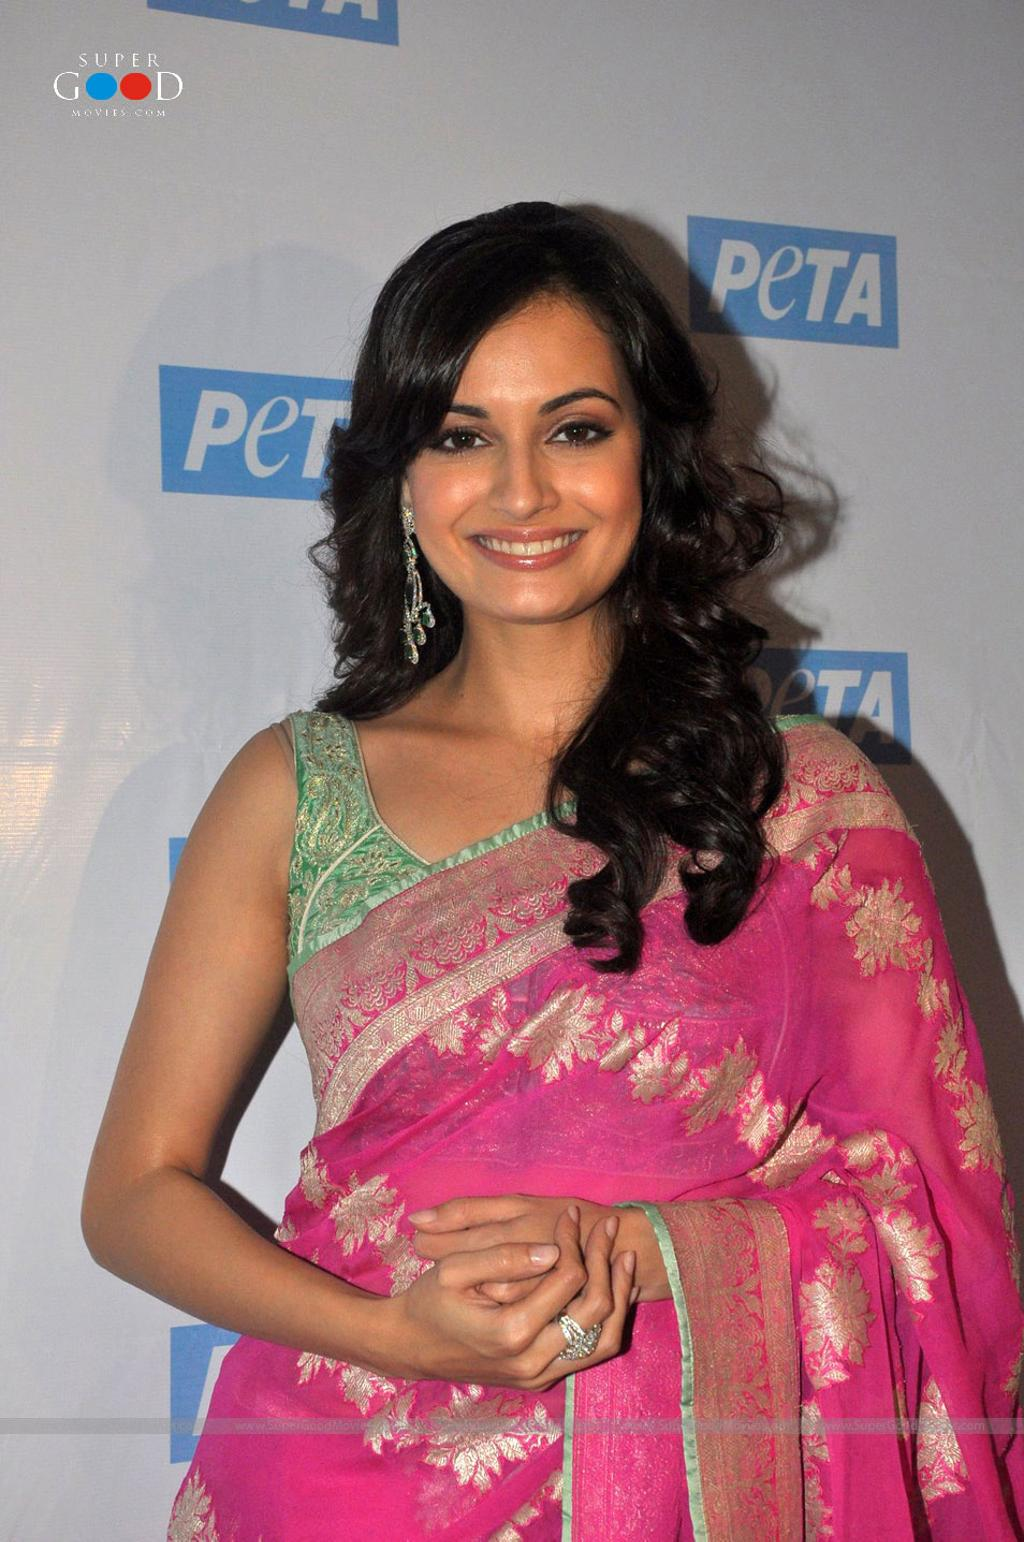face: (404, 283, 645, 620)
